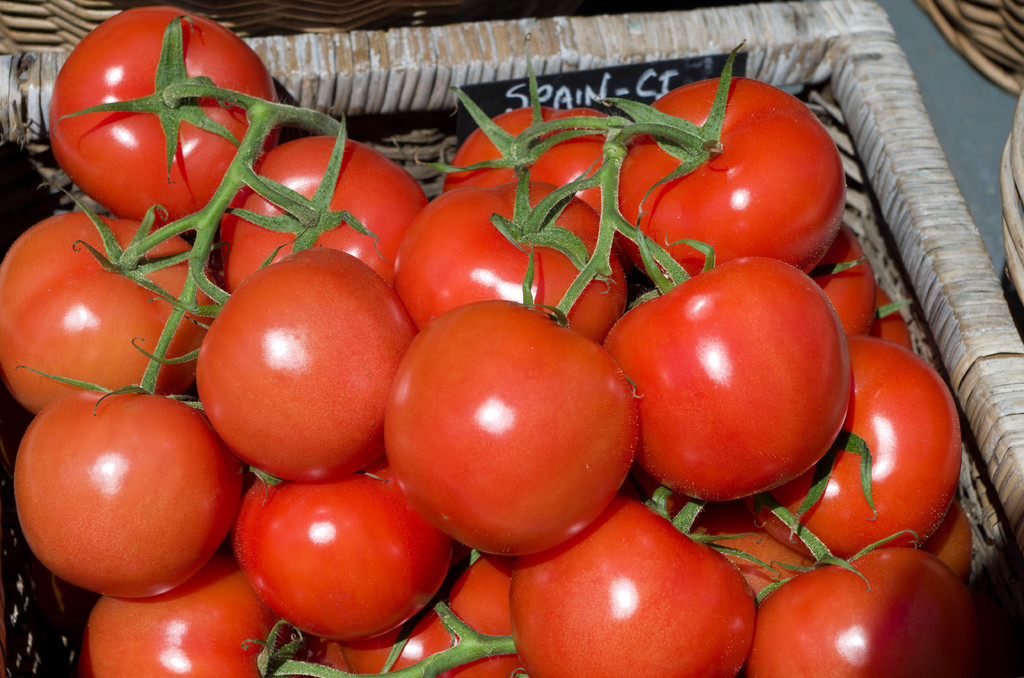Tomato: (0, 2, 981, 677), (615, 251, 851, 504), (503, 490, 759, 677)
